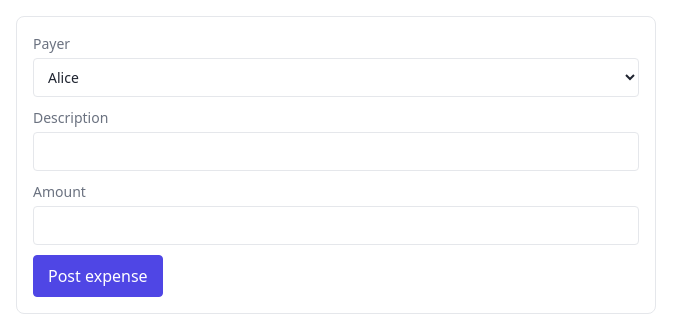
Test case: ExpenseForm › posts an expense for the selected payer and notifies the parent
Select "Bob" in the dropdown labelled "Payer" at (336, 78), box [33,58,639,97]
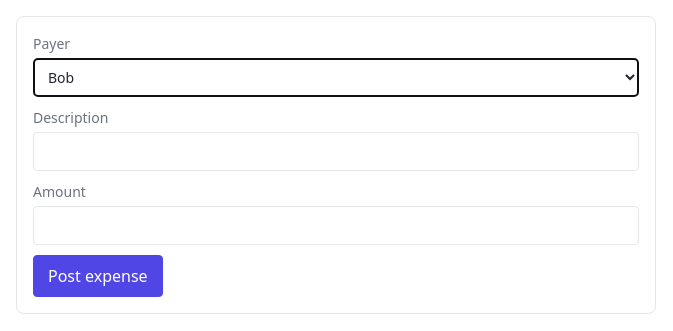
Type "Dinner" into the field labelled "Description" at (336, 152), box [33,132,639,171]
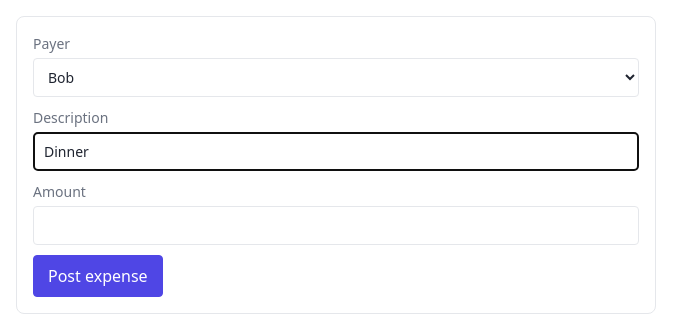
Type "100" into the number field labelled "Amount" at (336, 226), box [33,206,639,245]
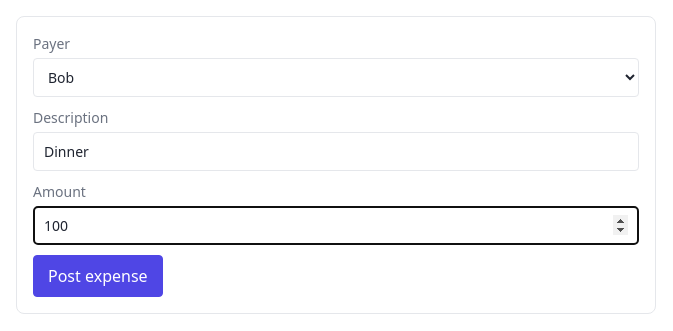
Click the button "Post expense" at (98, 276), box [33,255,163,297]
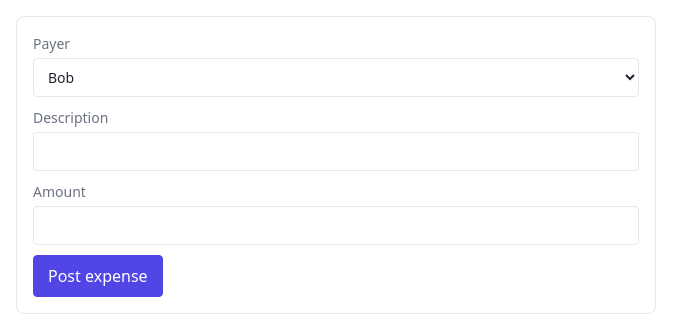
Now the field labelled "Description" is empty, box [33,132,639,171]
